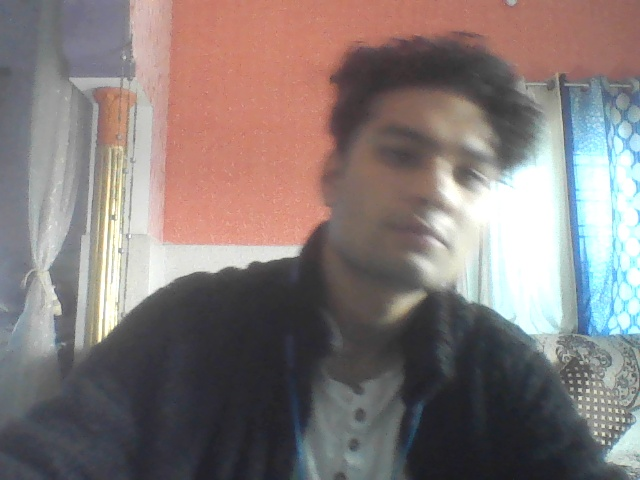real: (321, 37, 511, 307)
